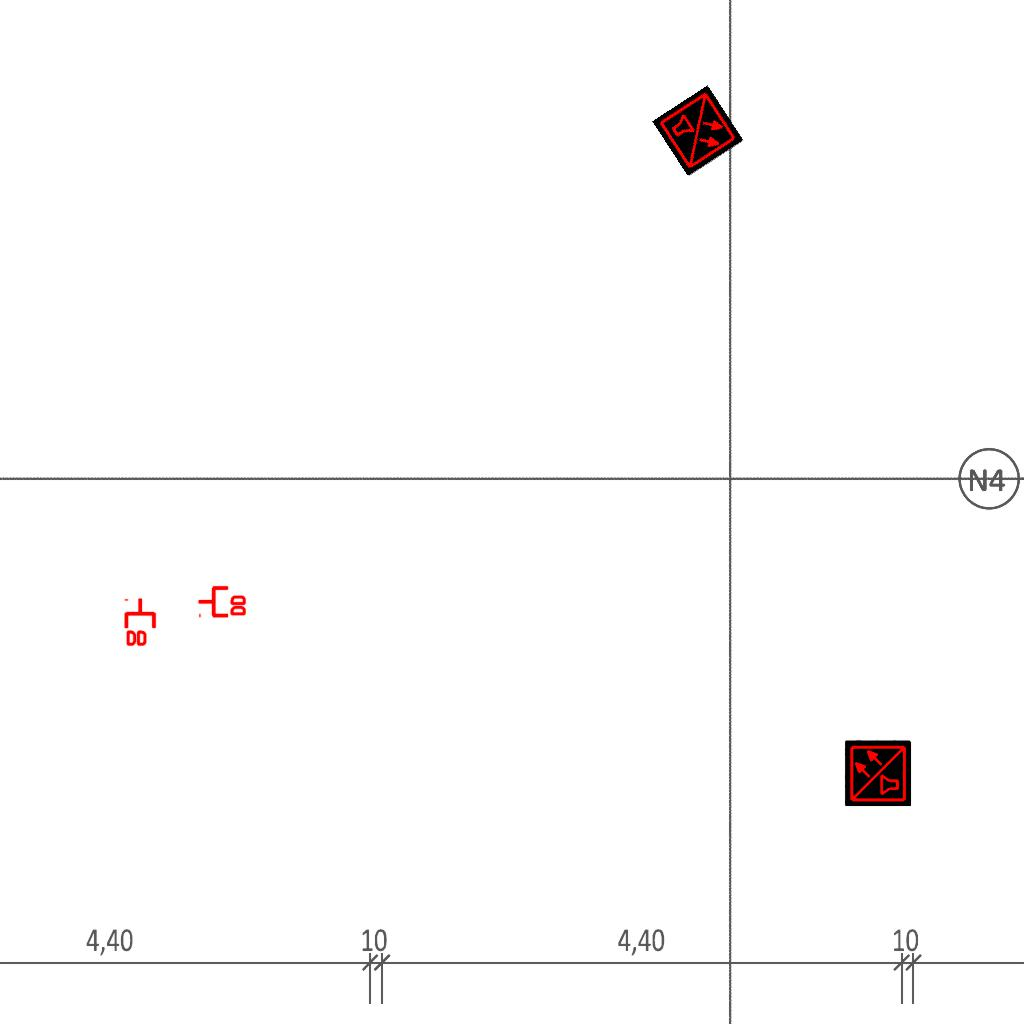Datenanschluss_zweifach: (197, 584, 248, 618), (124, 597, 158, 648)
OKW_Multisensormelder_(Kombination_optischer_Rauch-Kahlenmonoxid_Waerme-Melder): (652, 85, 744, 177), (845, 740, 911, 806)
